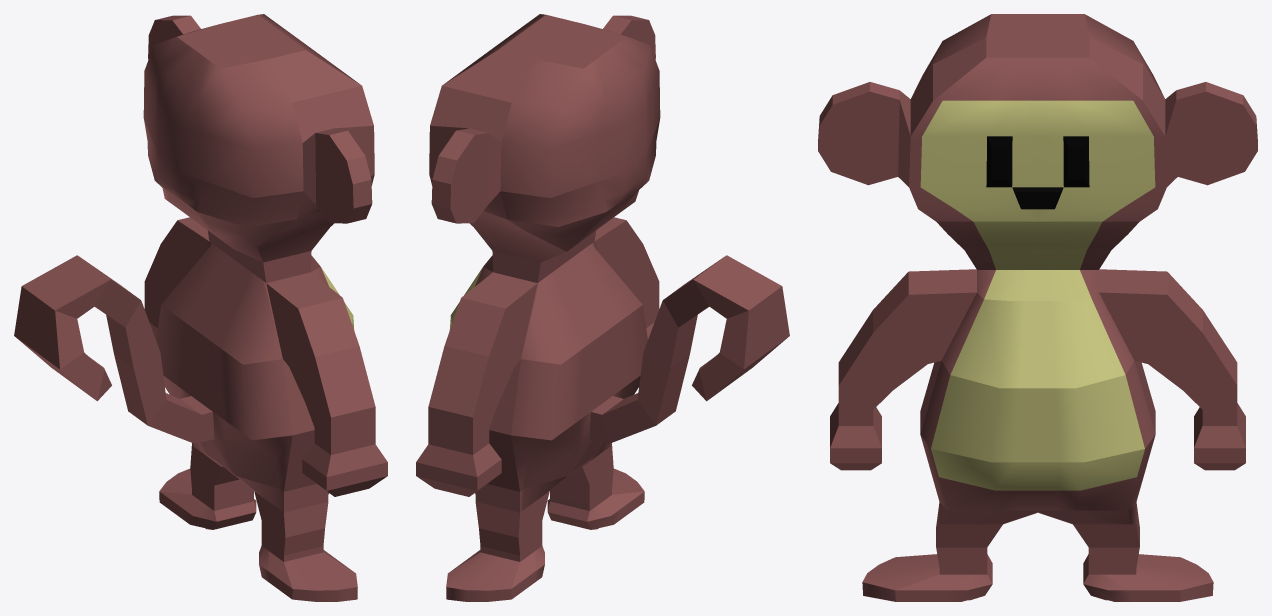
Rendered from Monochido2.fbx.
3 renders of one model, left to right at view 1: azimuth 30°, elevation 25°; view 2: azimuth 150°, elevation 25°; view 3: azimuth 270°, elevation 25°, orthographic. The views are drawn at different scales.
Parts seen in each view (by area): view 1: pCube1; view 2: pCube1; view 3: pCube1.
Boxes of the visible parts, x1,y1,x2,y2 form: pCube1: [14, 14, 387, 601]; pCube1: [416, 14, 789, 601]; pCube1: [818, 14, 1257, 601].
Bounding box in the file's own units: 2.84 × 4.63 × 3.39.
